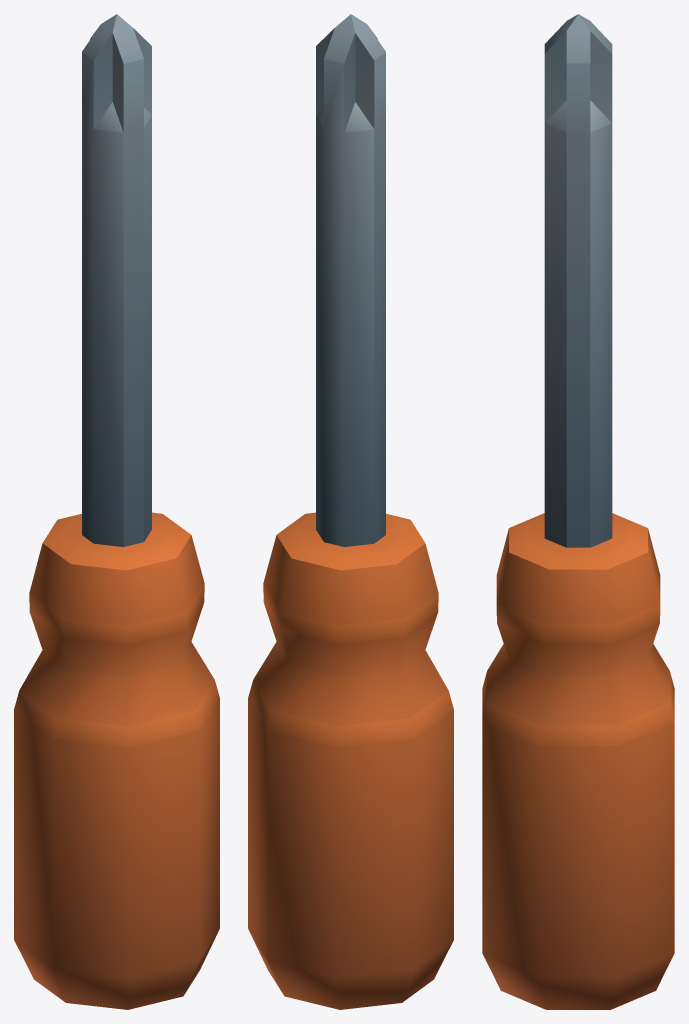
The model's file is screwdriver_b_long_color.glb.
3 renders of one model, left to right at view 1: azimuth 30°, elevation 25°; view 2: azimuth 150°, elevation 25°; view 3: azimuth 270°, elevation 25°, orthographic.
Visible parts, largest first — view 1: screwdriver_B_long_color; view 2: screwdriver_B_long_color; view 3: screwdriver_B_long_color.
Boxes of the visible parts, x1=… form: screwdriver_B_long_color: x1=14, y1=14, x2=219, y2=1009; screwdriver_B_long_color: x1=248, y1=14, x2=453, y2=1009; screwdriver_B_long_color: x1=482, y1=14, x2=674, y2=1009.
Size of the model in its own units: 0.0908 by 0.5122 by 0.0908.
Materials: 1 (1 with a texture image).
